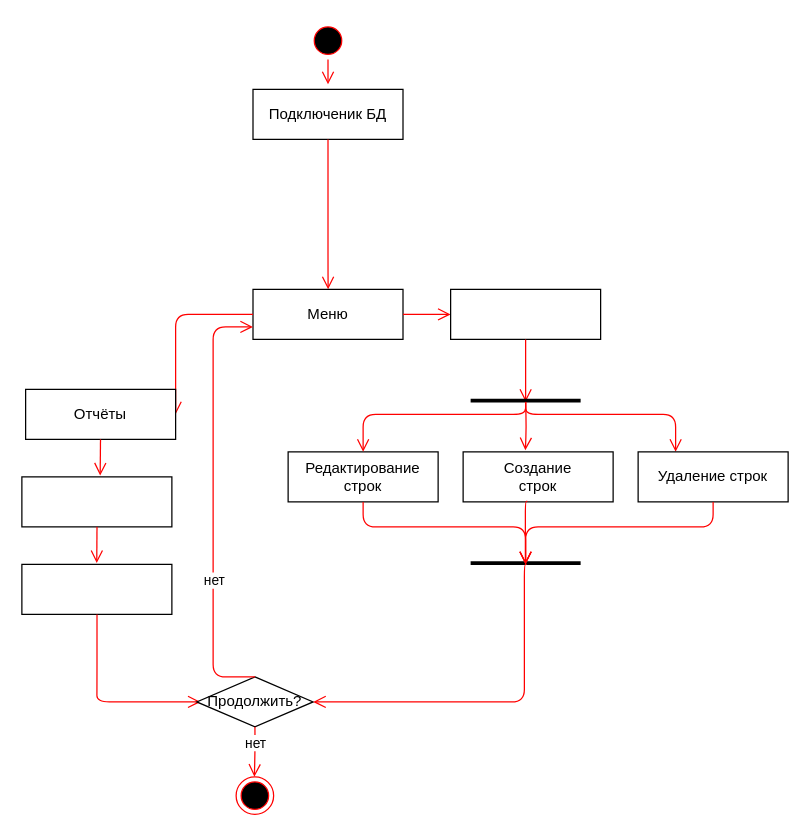
Image size: 810x836. Some labels were removed from this diagram. The shapes that lost their labels are listed below. From the top down, each one's centre as x and y in pixels, then its label:
[525,313]: Работа с таблицами
[96,501]: Выбор отчёта
[96,588]: Экспорт в .xls
